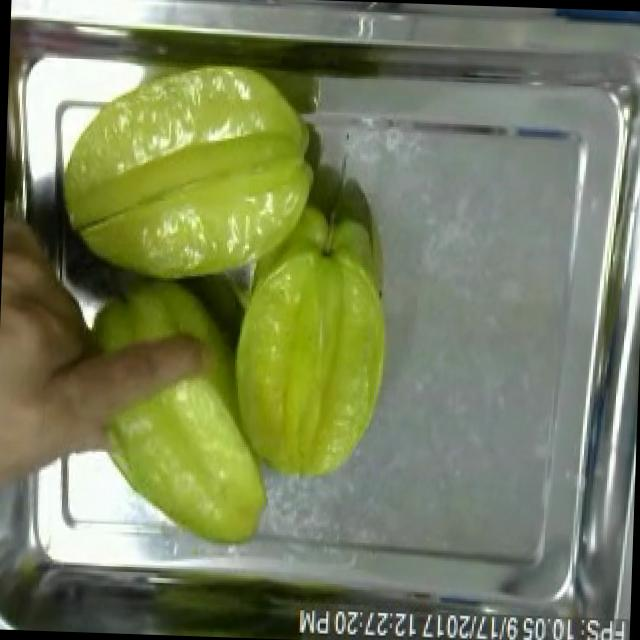fruit: (45, 45, 333, 303), (212, 227, 407, 491), (90, 354, 286, 557), (0, 217, 103, 520)
